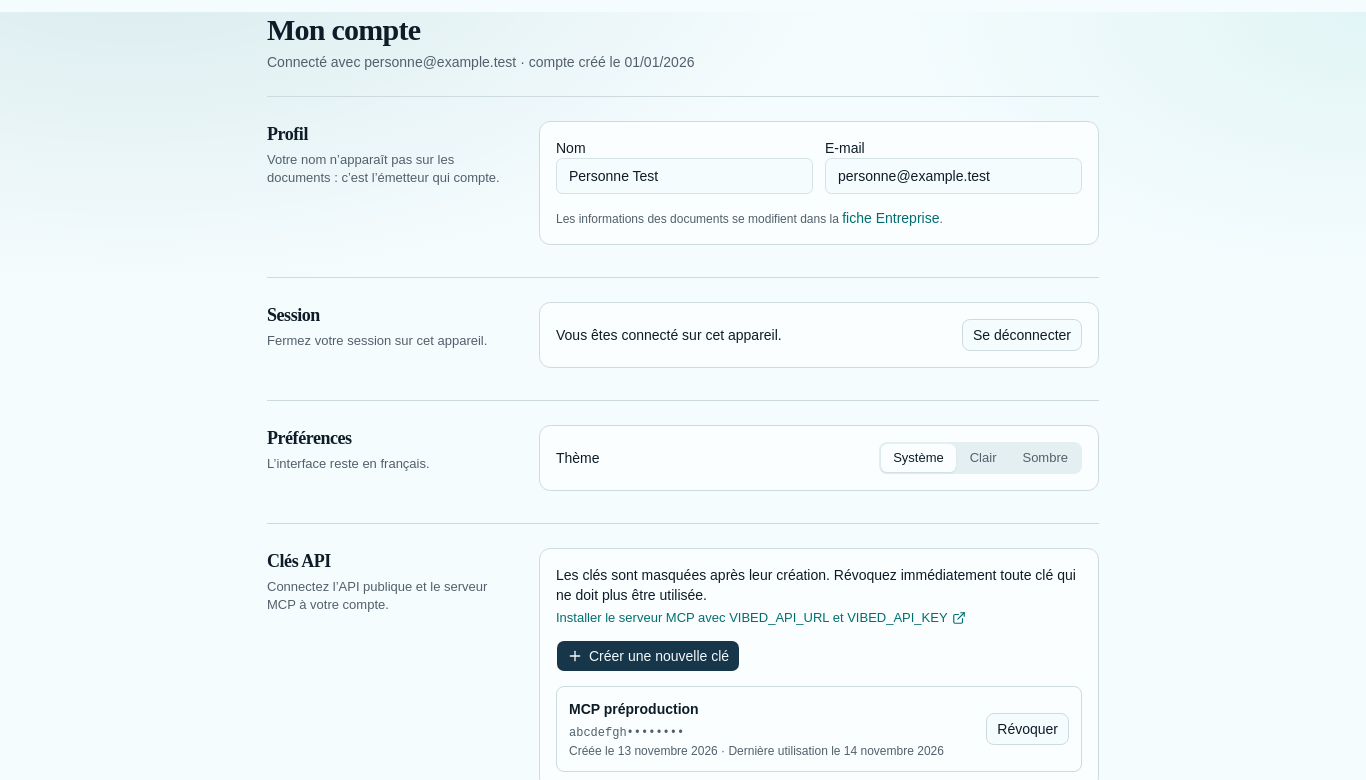
Account API keys › revokes an active key and marks it revoked
The image size is (1366, 780).
Expected: the list item "MCP préproduction" is shown, [569, 701, 699, 717]
Click the button "Révoquer" at (1028, 729), box [986, 713, 1069, 745]
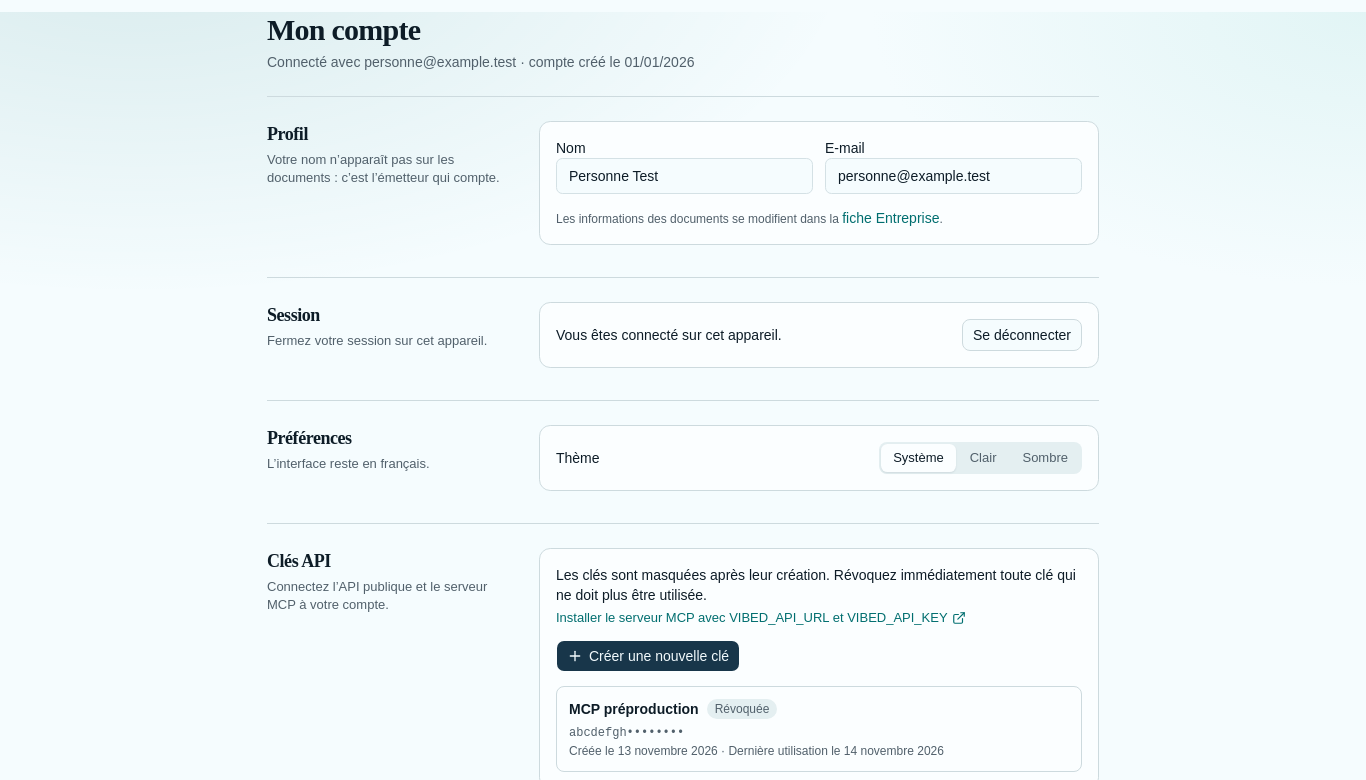
Expected: the text "Révoquée" is shown, [707, 699, 777, 719]
Expected: the button "Révoquer" is gone
